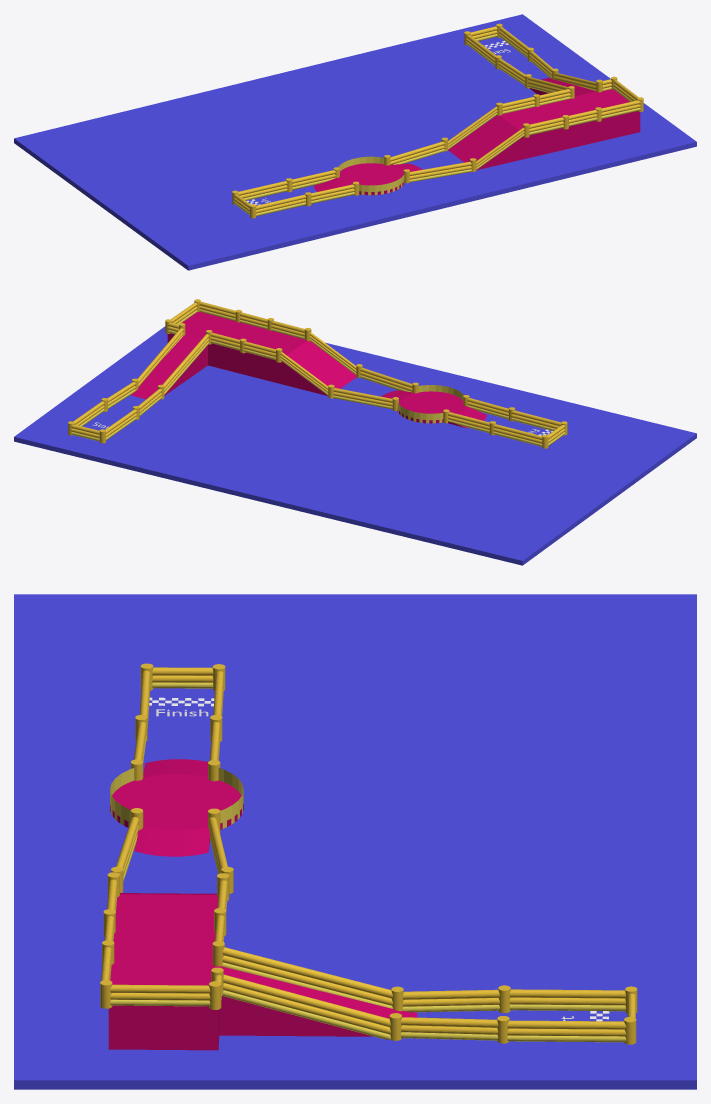
The model's file is map.glb.
3 views of the same model, one above another, from view 1: azimuth 30°, elevation 25°; view 2: azimuth 150°, elevation 25°; view 3: azimuth 270°, elevation 25° (orthographic). The views are drawn at different scales.
Visible parts, largest first — view 1: map, Cube, Cylinder.059, Cylinder.054, Cylinder.037, Cylinder.038; view 2: map, Cube, Cylinder.059, Cylinder.054, Cylinder.037; view 3: map, Cube, Cylinder.059, Cylinder.045, Cylinder.044, Cylinder.054, Cylinder.046, Cylinder.043, Cylinder.042, Cylinder.003, Cylinder.004, Cylinder.002 (+8 smaller).
Part boxes in pixels (box(x1,y1,x2,y2)): map: box(14, 14, 696, 270); Cube: box(448, 78, 640, 170); Cylinder.059: box(314, 163, 422, 195); Cylinder.054: box(338, 156, 404, 195); Cylinder.037: box(529, 100, 641, 128); Cylinder.038: box(529, 104, 641, 132); map: box(14, 326, 696, 565); Cube: box(131, 312, 356, 399); Cylinder.059: box(381, 390, 486, 428); Cylinder.054: box(397, 385, 463, 423); Cylinder.037: box(199, 301, 304, 332); map: box(14, 594, 696, 1089); Cube: box(108, 893, 417, 1050); Cylinder.059: box(110, 759, 243, 856); Cylinder.045: box(222, 947, 392, 998); Cylinder.044: box(223, 974, 390, 1027); Cylinder.054: box(110, 768, 243, 828); Cylinder.046: box(222, 955, 392, 1005); Cylinder.043: box(223, 983, 390, 1034); Cylinder.042: box(222, 990, 391, 1039); Cylinder.003: box(507, 1020, 626, 1029); Cylinder.004: box(509, 989, 625, 998); Cylinder.002: box(507, 1028, 626, 1036).
Bounding box in the file's own units: 2.25 × 0.1936 × 1.33.
